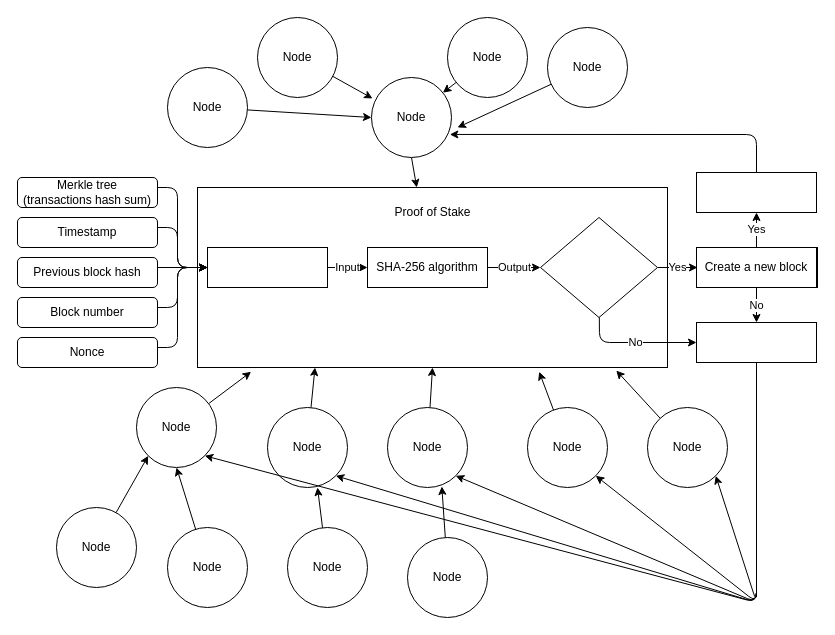
Some shapes in this 835 by 635 pixel diagram are drawn without their labels. Here are the shapes that lost their labels. From the top down, the box of each, then its label:
(696, 172, 816, 212): Get a reward
(206, 246, 328, 288): Create a block header
(540, 216, 658, 318): Coin age of node >block hash/target
(696, 322, 816, 362): Wait for the next round
